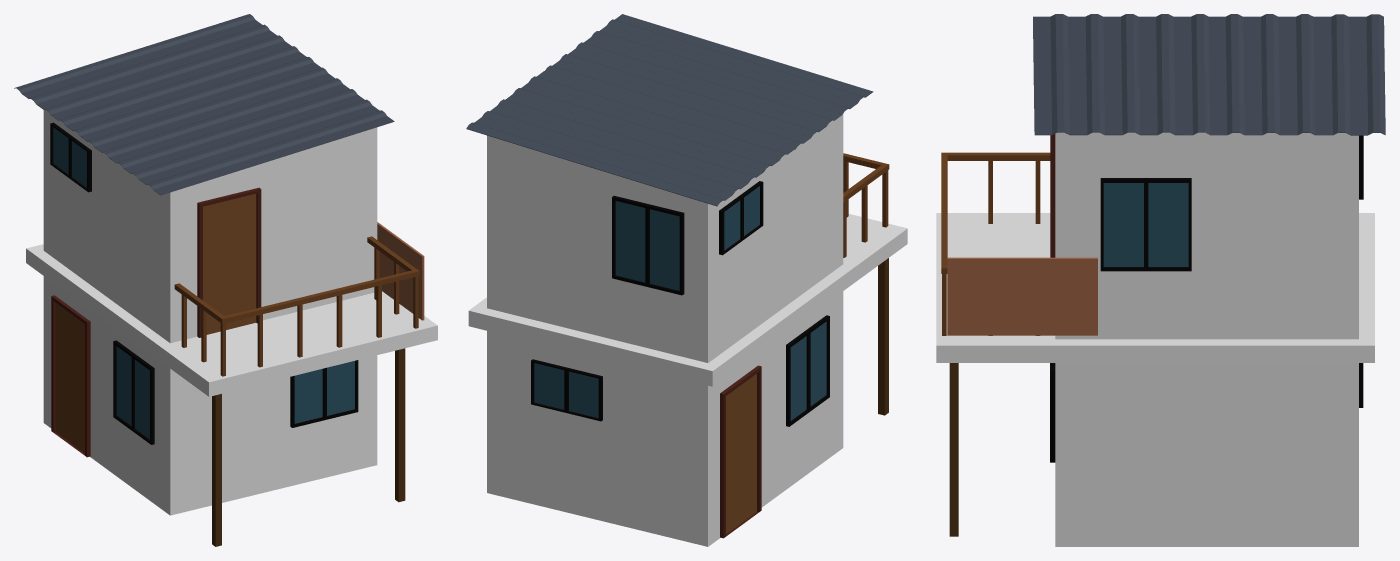
Rendered from Slum 7.fbx.
3 renders of one model, left to right at view 1: azimuth 30°, elevation 25°; view 2: azimuth 150°, elevation 25°; view 3: azimuth 270°, elevation 25°, orthographic. The views are drawn at different scales.
Parts seen in each view (by area): view 1: Roof.005, Cube.021, Cube.010, Cube.011, Cube.012, Cube.020, Door.009, Door.008, Cube.013, Window 1.017, Window 1.016, Wood 1.002 (+2 smaller); view 2: Roof.005, Cube.010, Cube.021, Cube.012, Cube.011, Cube.020, Door.008, Window 1.018, Window 1.016, Window 2.013, Window 2.014, Cube.013 (+1 smaller); view 3: Cube.020, Cube.012, Roof.005, Cube.011, Plane.002, Window 1.019, Cube.013, Wood 1.002, Door.009, Window 1.017.
Boxes of the visible parts, left/top/right/bottom form: Roof.005: left=14, top=14, right=394, bottom=195; Cube.021: left=170, top=127, right=377, bottom=343; Cube.010: left=170, top=355, right=377, bottom=515; Cube.011: left=26, top=244, right=437, bottom=396; Cube.012: left=43, top=109, right=170, bottom=342; Cube.020: left=43, top=276, right=170, bottom=515; Door.009: left=197, top=187, right=261, bottom=337; Door.008: left=51, top=295, right=90, bottom=457; Cube.013: left=174, top=236, right=419, bottom=376; Window 1.017: left=290, top=360, right=358, bottom=427; Window 1.016: left=113, top=340, right=154, bottom=444; Wood 1.002: left=212, top=348, right=405, bottom=546; Roof.005: left=466, top=14, right=873, bottom=206; Cube.010: left=487, top=331, right=707, bottom=546; Cube.021: left=487, top=135, right=707, bottom=362; Cube.012: left=708, top=114, right=843, bottom=362; Cube.011: left=468, top=214, right=907, bottom=386; Cube.020: left=708, top=291, right=843, bottom=546; Door.008: left=720, top=365, right=761, bottom=538; Window 1.018: left=612, top=195, right=684, bottom=295; Window 1.016: left=786, top=315, right=829, bottom=426; Window 2.013: left=531, top=359, right=602, bottom=421; Window 2.014: left=719, top=181, right=763, bottom=255; Cube.013: left=843, top=153, right=889, bottom=257; Cube.020: left=1055, top=363, right=1358, bottom=546; Cube.012: left=1055, top=132, right=1358, bottom=339; Roof.005: left=1033, top=14, right=1385, bottom=135; Cube.011: left=936, top=213, right=1374, bottom=362; Plane.002: left=947, top=257, right=1097, bottom=335; Window 1.019: left=1100, top=178, right=1191, bottom=271; Cube.013: left=941, top=152, right=1050, bottom=335; Wood 1.002: left=949, top=363, right=958, bottom=536; Door.009: left=1050, top=134, right=1055, bottom=257; Window 1.017: left=1050, top=363, right=1055, bottom=462.
Bounding box in the file's own units: 421 × 592 × 575.
